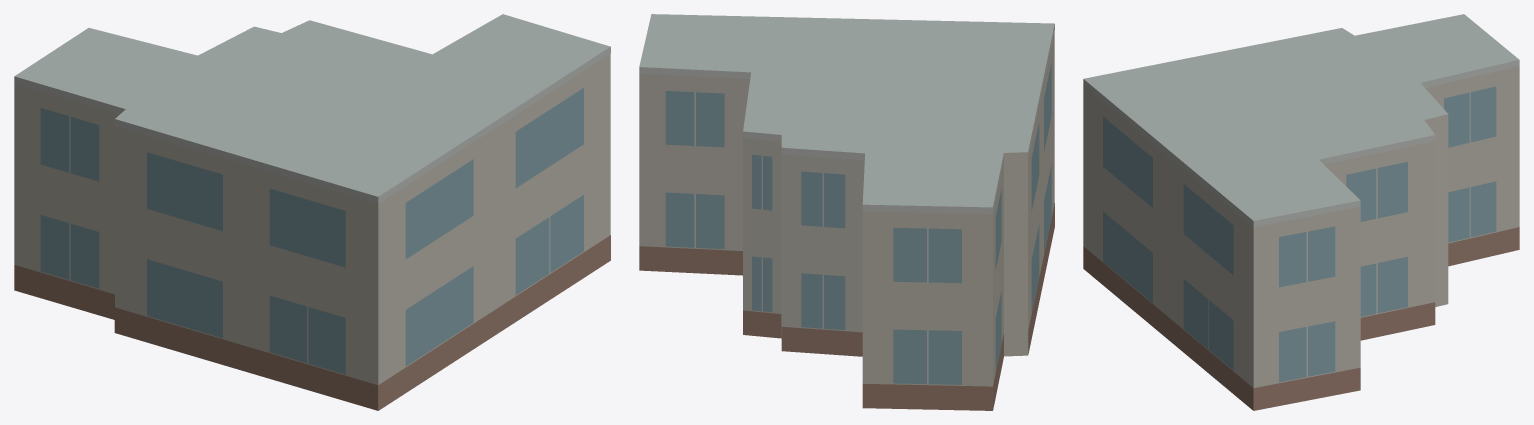
Rendered from survey-upis-32496145.glb.
3 renders of one model, left to right at view 1: azimuth 30°, elevation 25°; view 2: azimuth 150°, elevation 25°; view 3: azimuth 270°, elevation 25°, orthographic. The views are drawn at different scales.
Visible parts, largest first — view 1: survey-upis-32496145.tmp; view 2: survey-upis-32496145.tmp; view 3: survey-upis-32496145.tmp.
Boxes of the visible parts, bbox=[...] form: survey-upis-32496145.tmp: bbox=[14, 14, 610, 410]; survey-upis-32496145.tmp: bbox=[639, 14, 1054, 410]; survey-upis-32496145.tmp: bbox=[1083, 14, 1519, 410].
Size of the model in its own units: 17.3 by 7.4 by 15.42.
